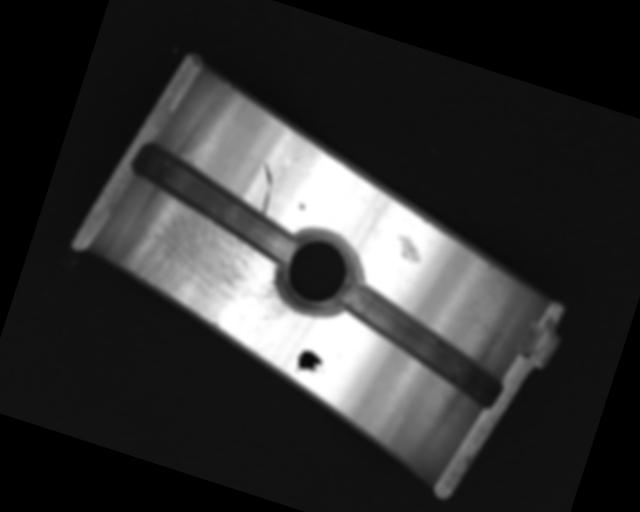blot: (292, 346, 329, 380)
bruise: (392, 234, 426, 265), (298, 201, 306, 211)
gap: (116, 137, 313, 267), (324, 279, 519, 409)
hole: (267, 221, 369, 324)
nick: (249, 161, 282, 215)
scratch: (105, 188, 317, 357)
